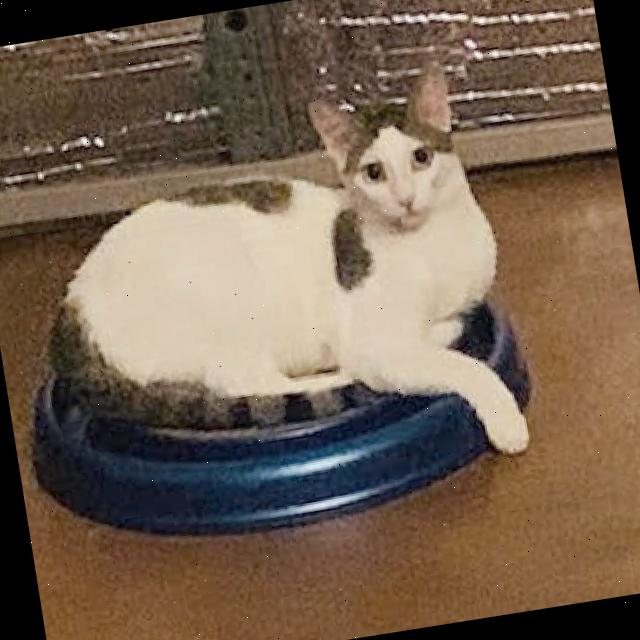domestic_short_hair_cat: (282, 36, 499, 276)
